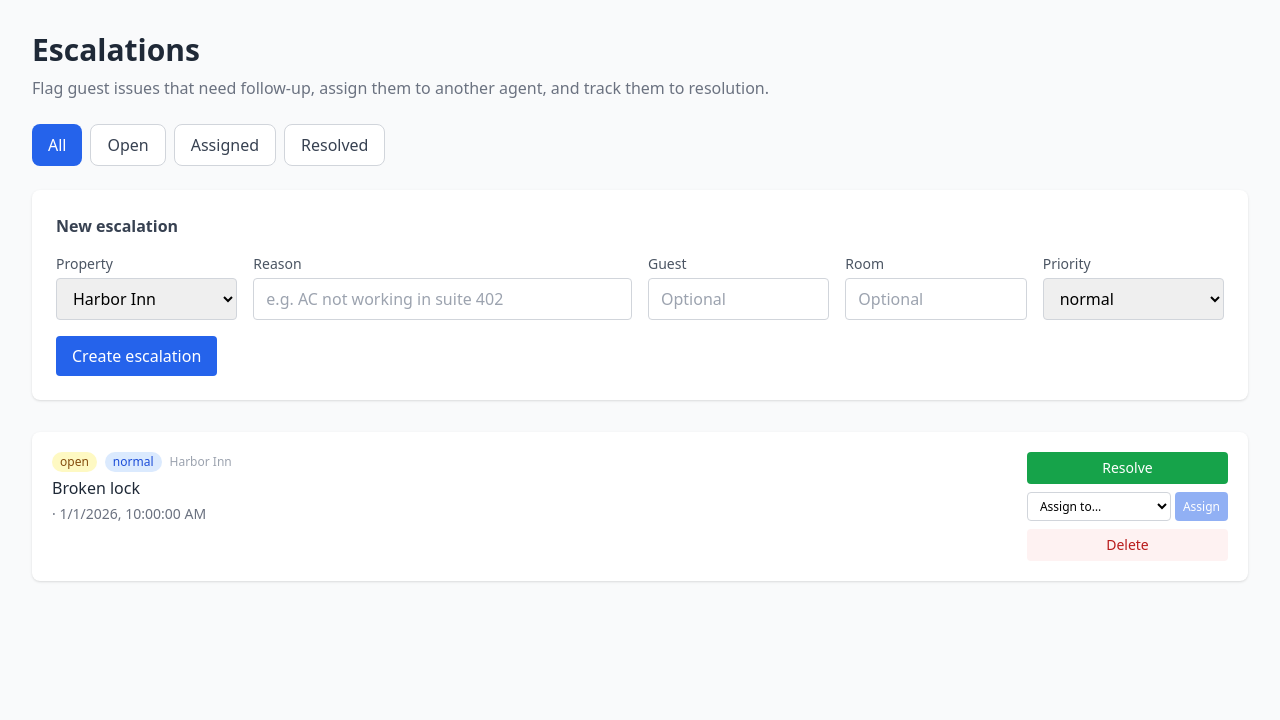
Test case: server validation messages › shows the server message when an escalation cannot be updated
Click the button "Resolve" at (1127,468), box [1027,452,1228,484]
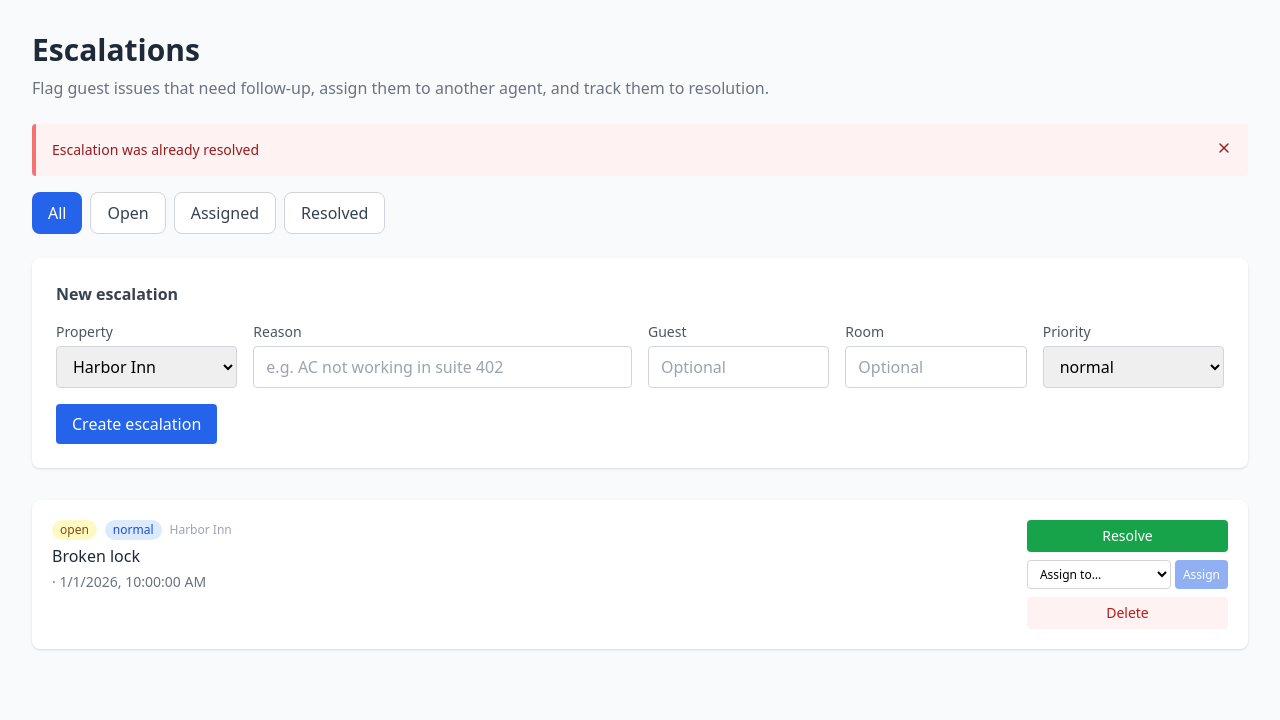
Check: the text "Escalation was already resolved" is shown, box [52,140,259,160]
